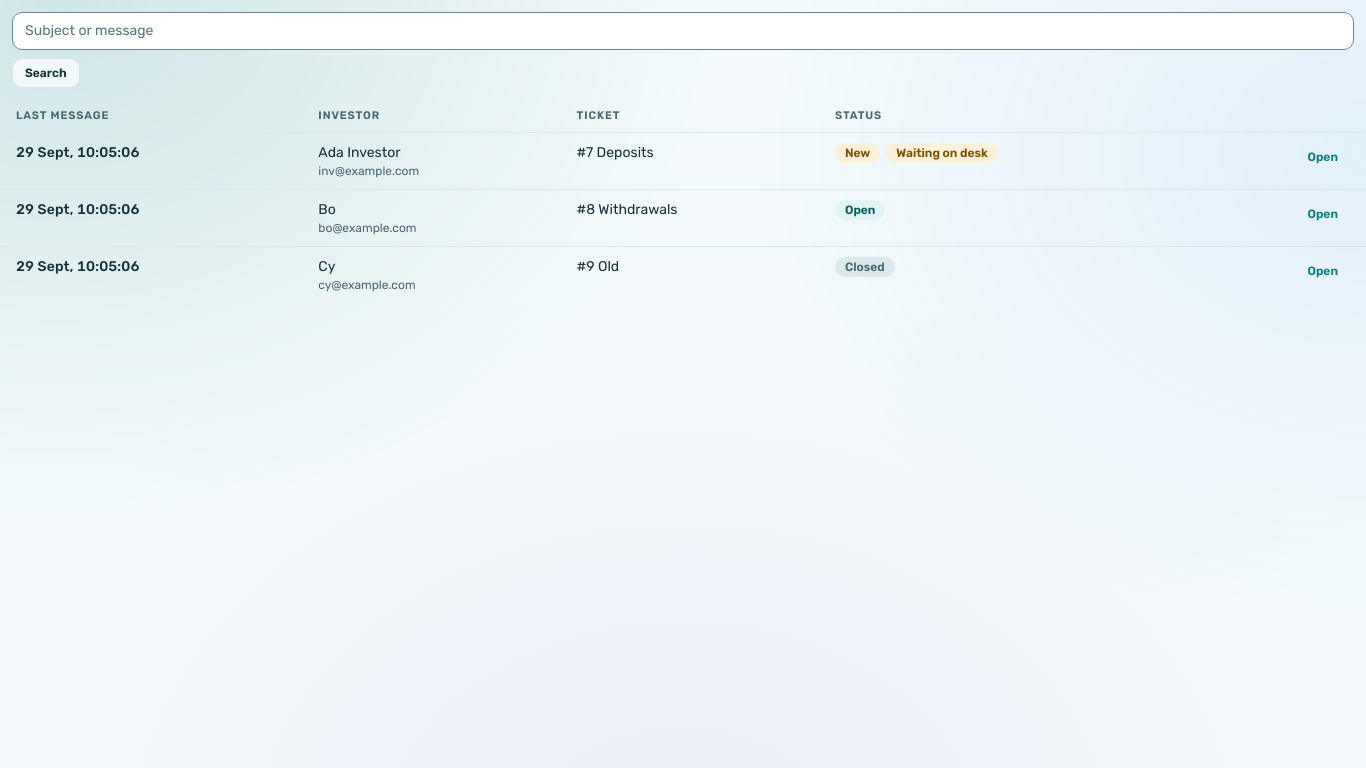
Test: the drawer shows the thread, sends a reply and closes the ticket
The width and height of the screenshot is (1366, 768).
Click the button with aria-label "Open ticket 7": point(1323, 157) [1296,143,1350,171]
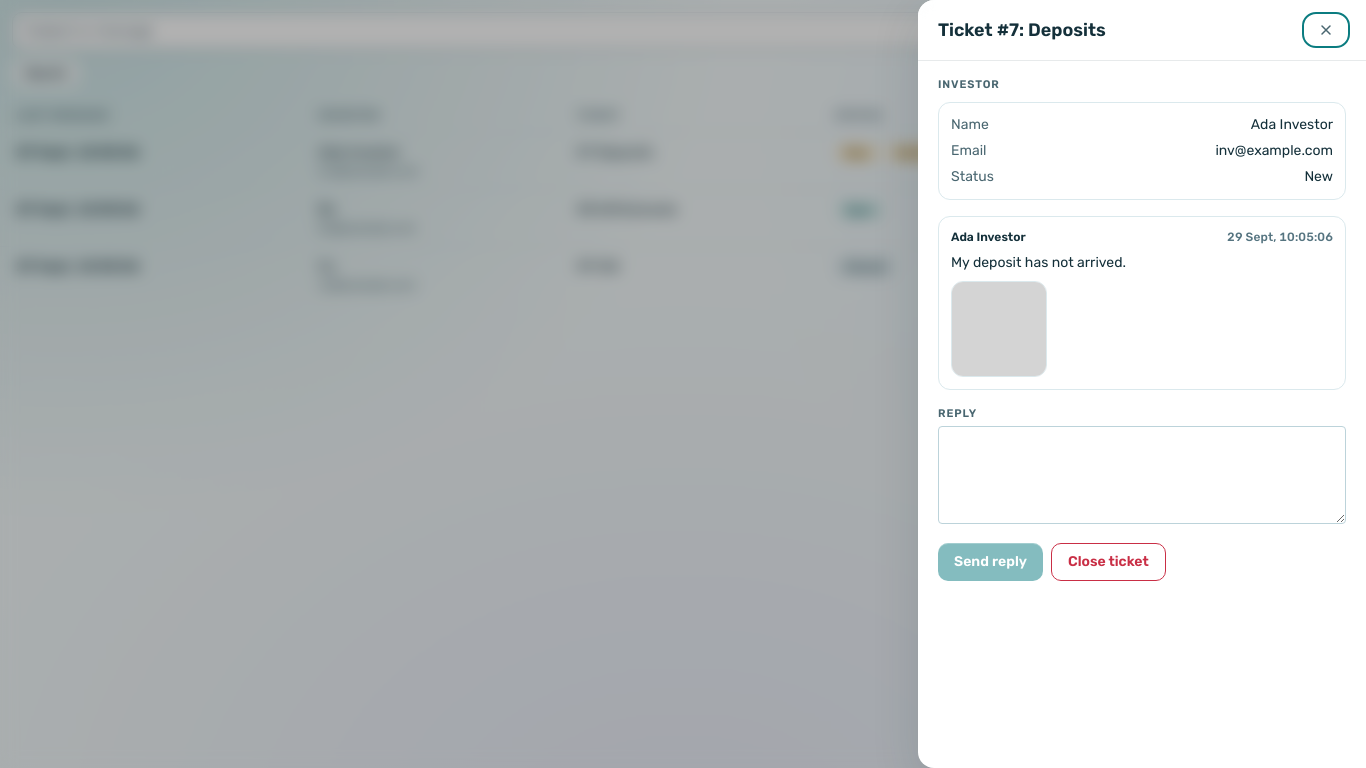
expect the text "My deposit has not arrived." is shown: met, box [951,254,1126,270]
In the text box named "Reply to the investor": point(1142, 475) [938,426,1346,524], type "We are checking."
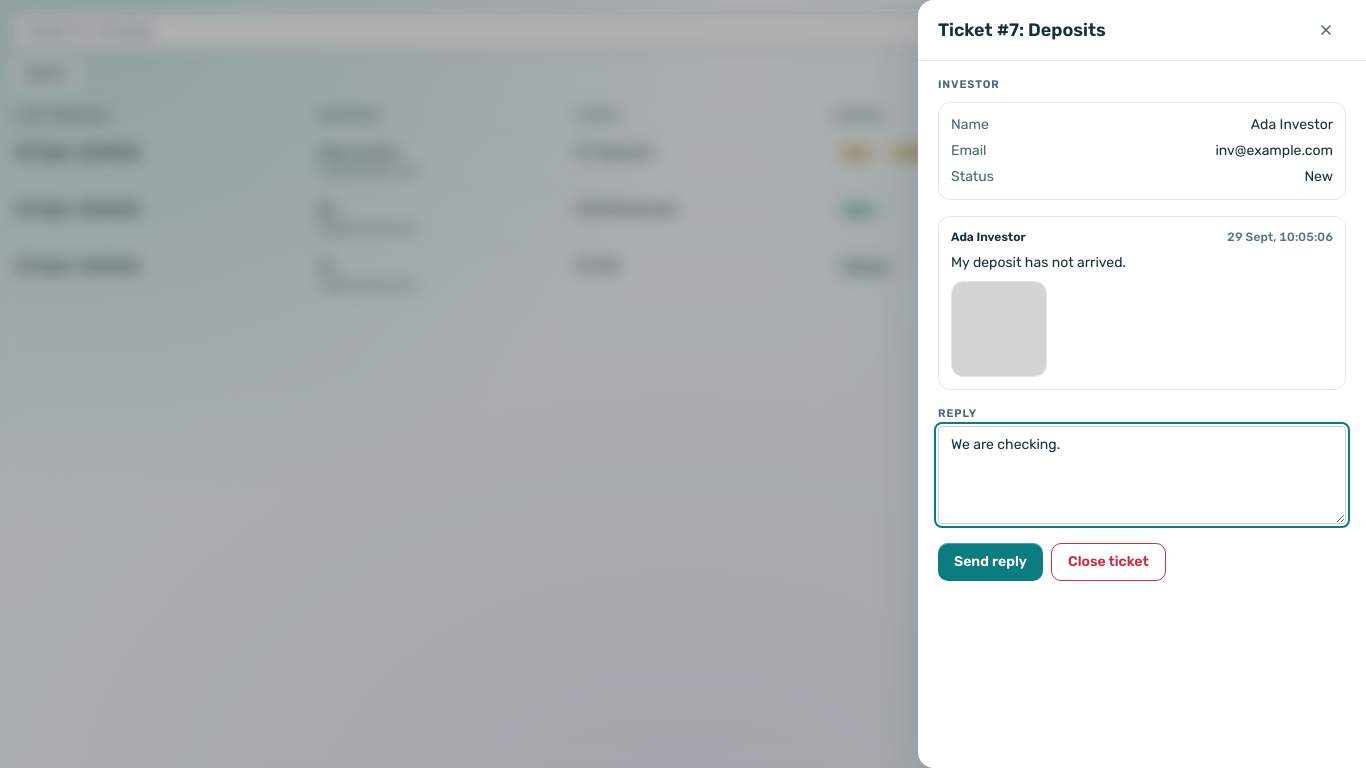
Click the button "Send reply": point(990, 562) [938,543,1043,581]
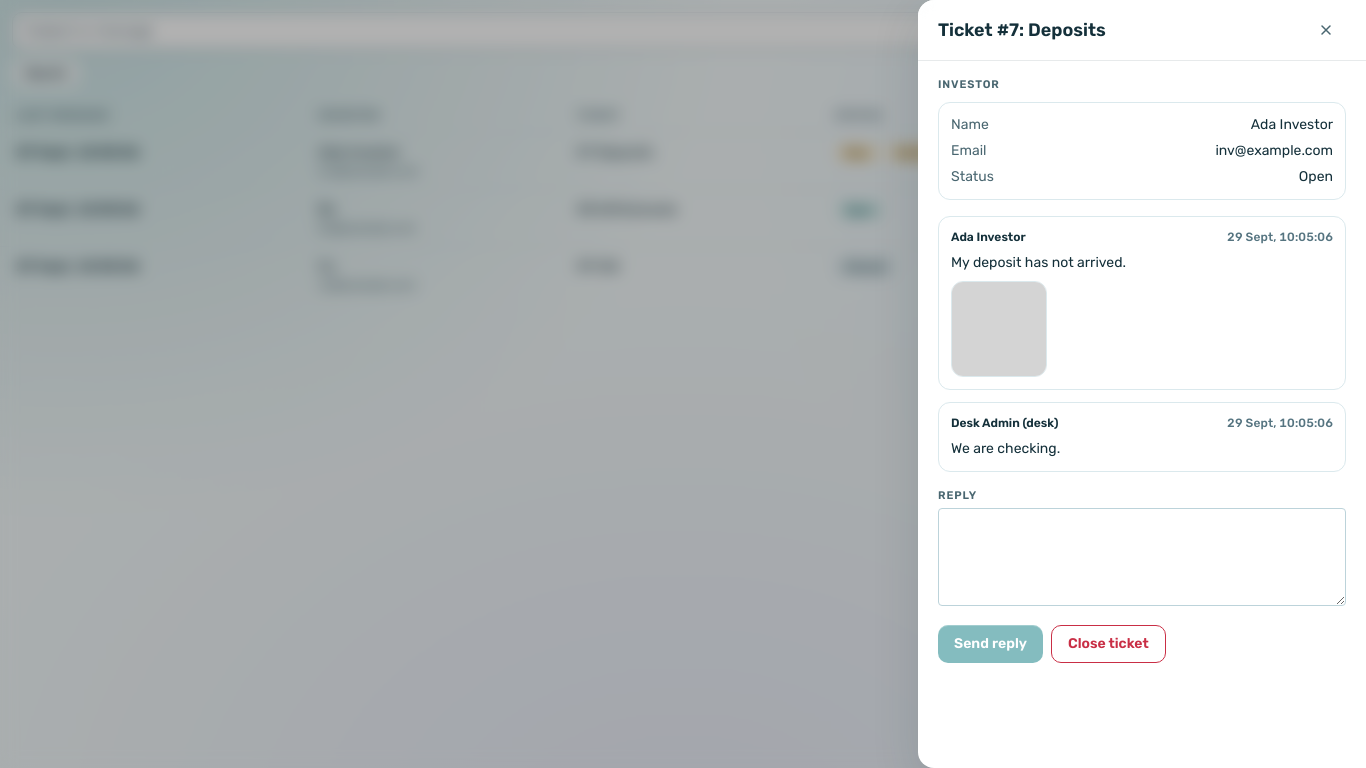
expect the text "Desk Admin (desk)" is shown: met, box [951,414,1058,430]
Click the button "Close ticket": point(1108, 644) [1051,625,1166,663]
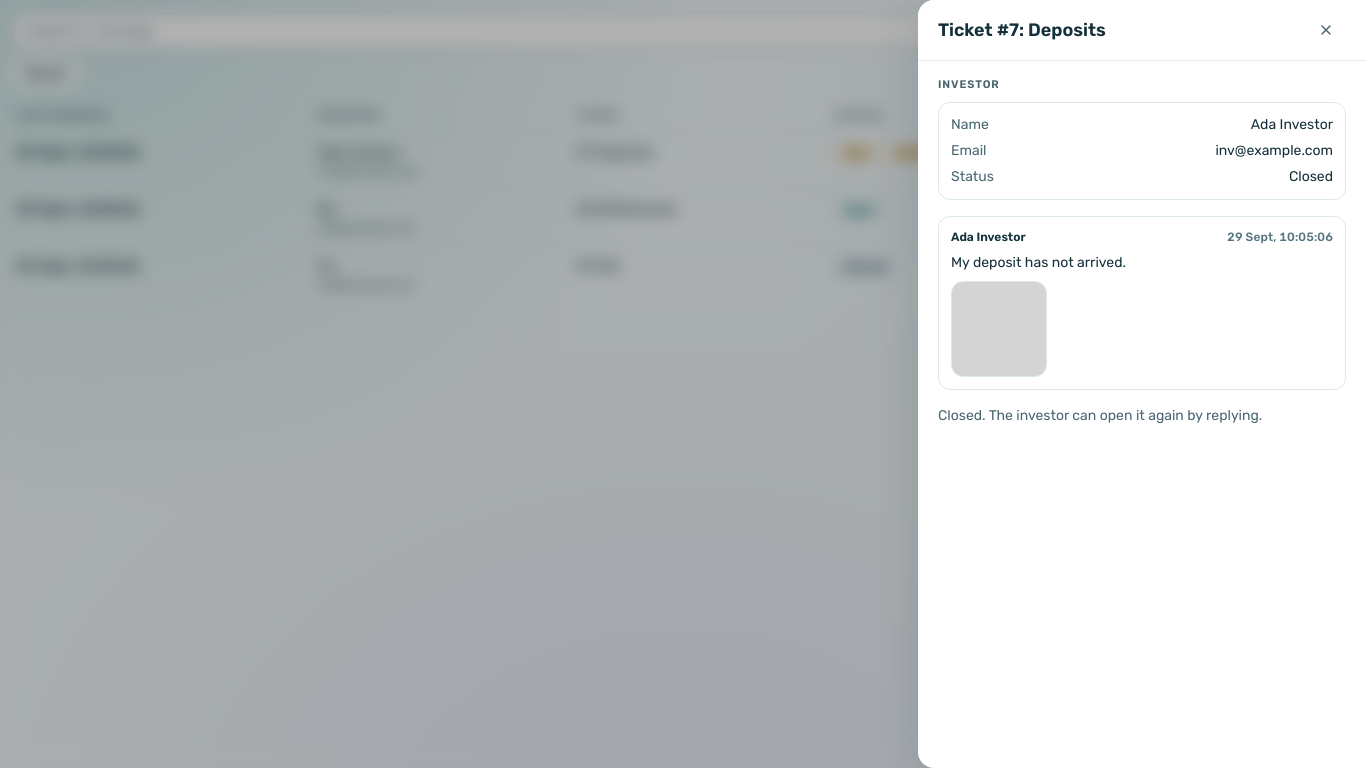
expect the text "Closed. The investor can open it again by replying." is shown: met, box [938,406,1262,424]
